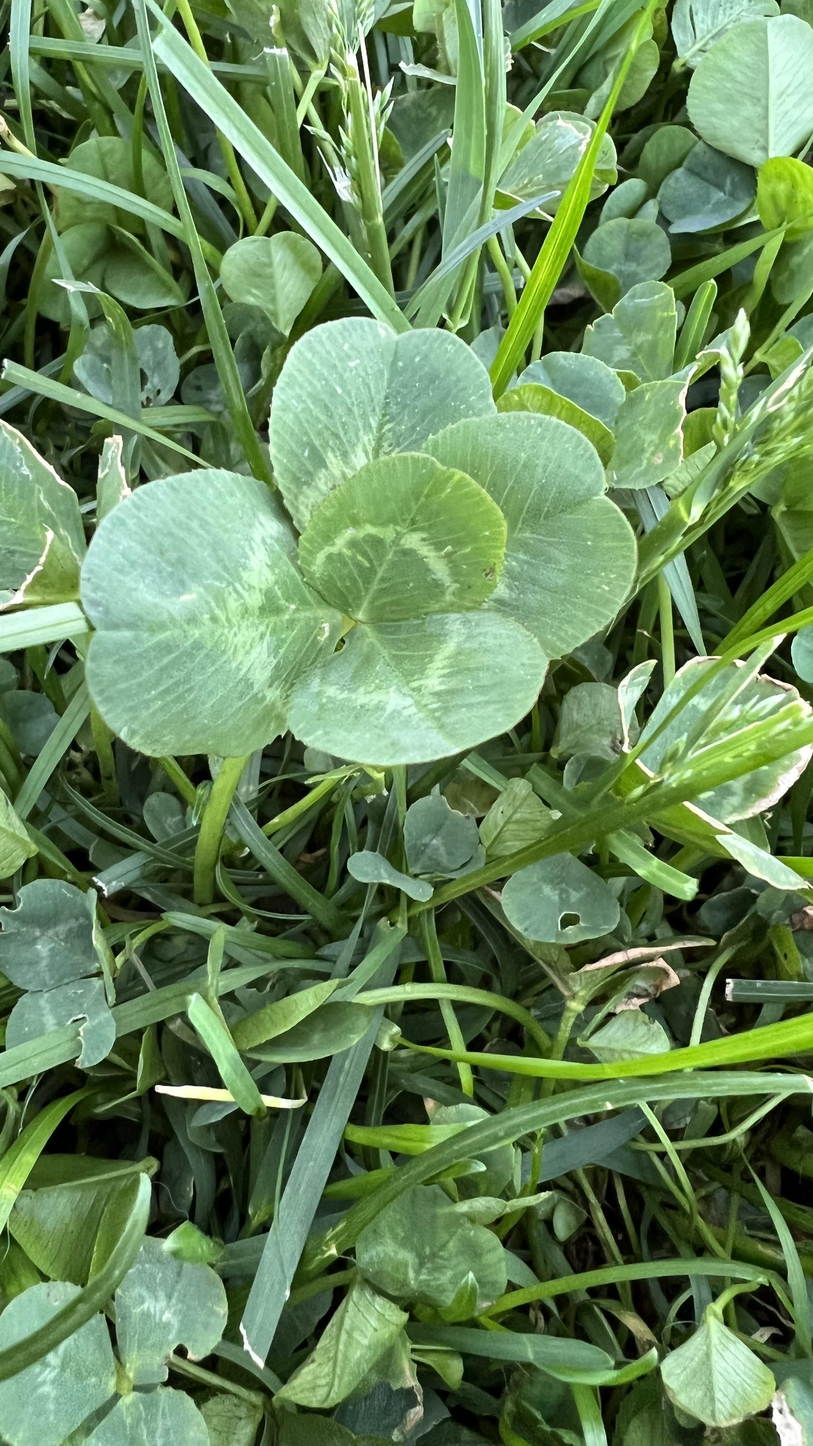5-Leaf-Clovers: (180, 304, 432, 1316)
